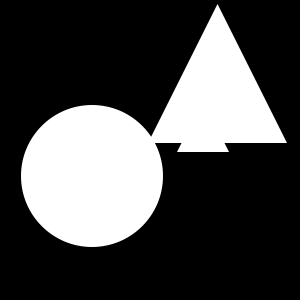rectangle: (21, 105, 163, 247)
triangle: (148, 4, 287, 143), (177, 100, 229, 152)
